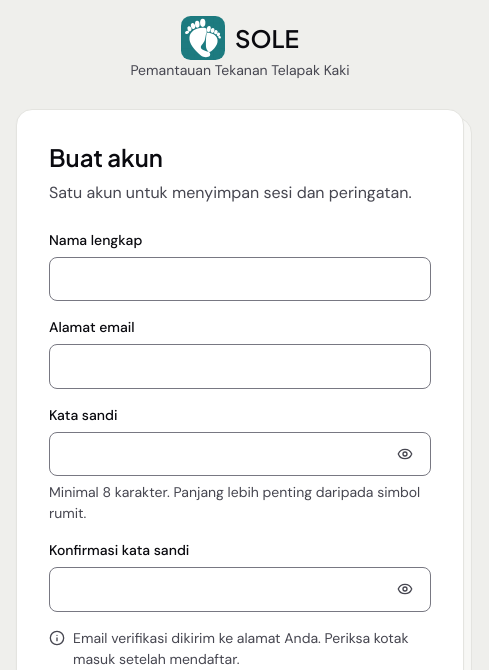
Test: register page › confirms a matching pair without waiting for submit
Type "Bunga-Melati-2026" into the password field labelled "Kata sandi". click: (240, 454)
box: left=49, top=432, right=431, bottom=476
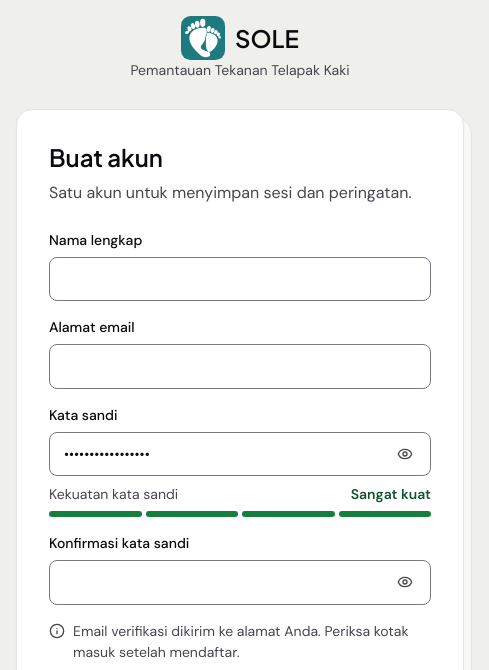
Type "Bunga-Melati-2026" into the password field labelled "Konfirmasi kata sandi". click: (240, 582)
box: left=49, top=560, right=431, bottom=605
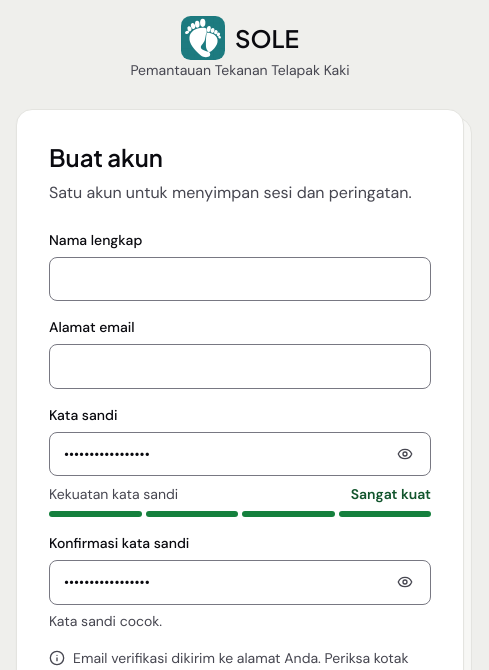
Now the text "Kata sandi cocok." is shown, box left=49, top=612, right=162, bottom=630
